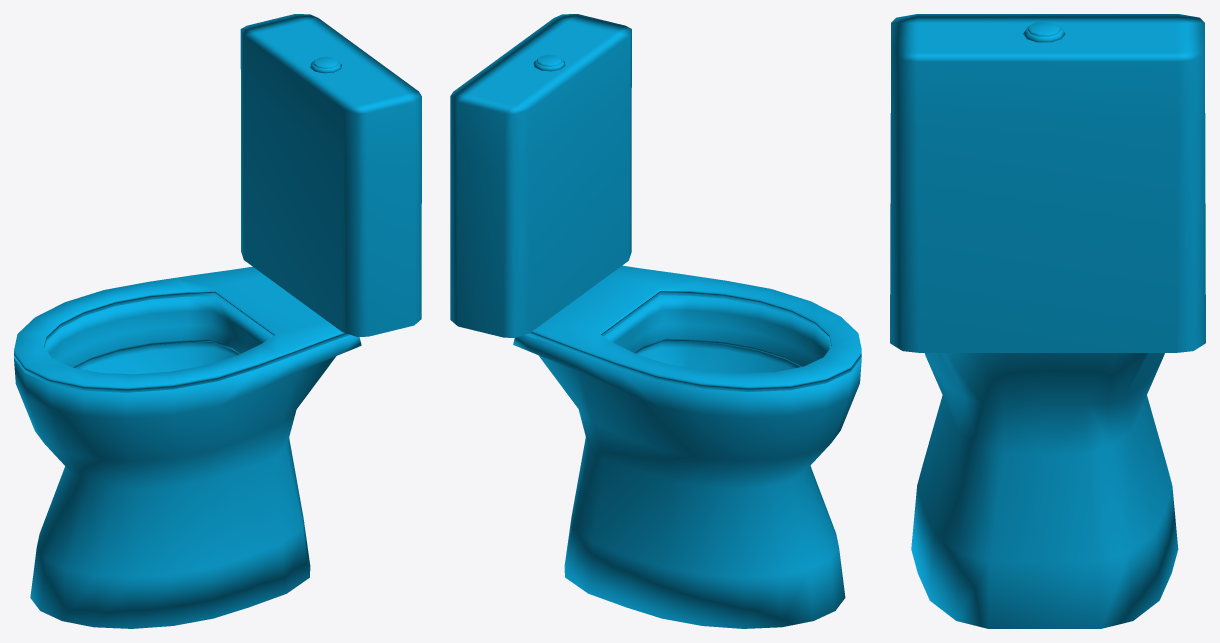
3 views of the same model, side by side, from view 1: azimuth 30°, elevation 25°; view 2: azimuth 150°, elevation 25°; view 3: azimuth 270°, elevation 25° (orthographic). The views are drawn at different scales.
Parts seen in each view (by area): view 1: Wc_02_Lod1; view 2: Wc_02_Lod1; view 3: Wc_02_Lod1.
Part boxes in pixels (<box>): Wc_02_Lod1: <box>14,14,421,628</box>; Wc_02_Lod1: <box>450,14,861,628</box>; Wc_02_Lod1: <box>890,14,1205,628</box>.
Size of the model in its own units: 62 by 82.37 by 37.67.
